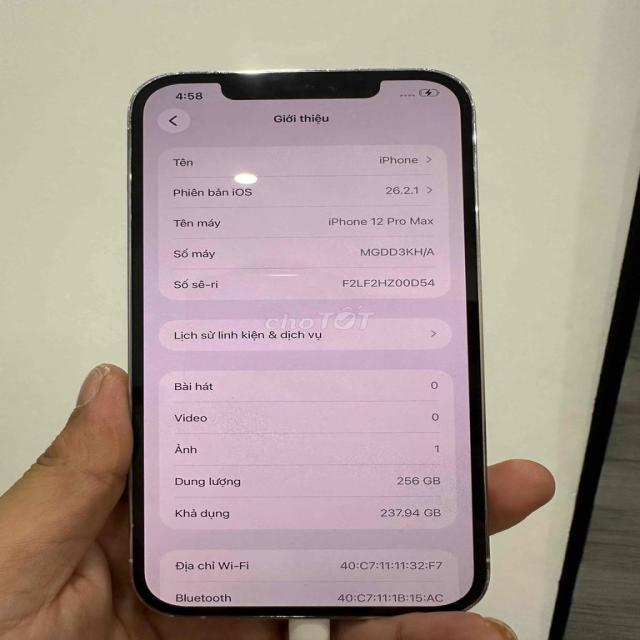gen_12_13: (113, 56, 504, 638)
